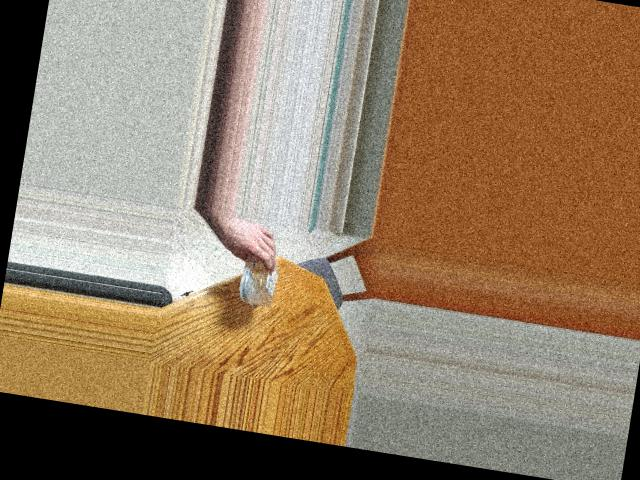cheese: (223, 241, 291, 315)
